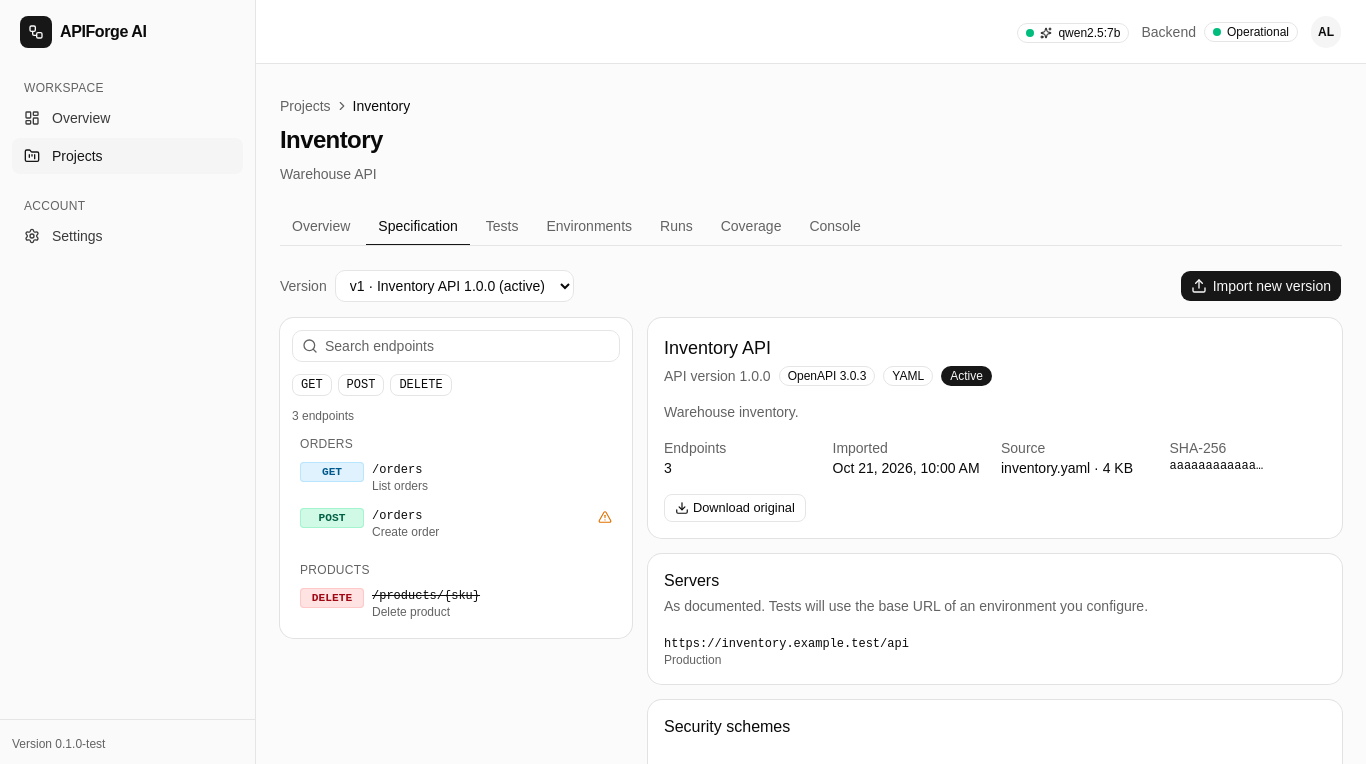
Test: Specification explorer › shows endpoint detail: parameters, schemas and documented responses
Click the text "List orders": x=400, y=486 x1=372 y1=479 x2=428 y2=493
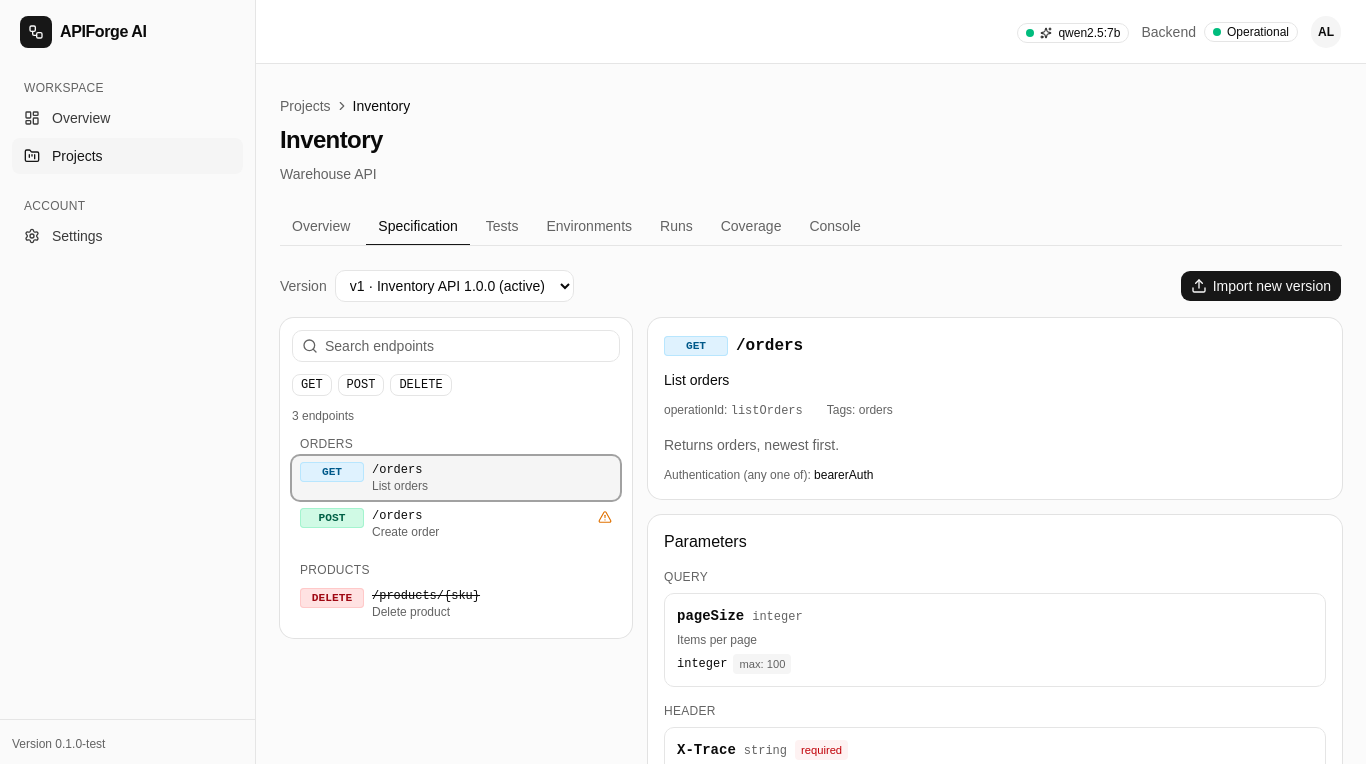
Expected: the heading "/orders" is shown, x1=736 y1=334 x2=803 y2=358
Expected: the text "Returns orders, newest first." is shown, x1=664 y1=437 x2=839 y2=453
Expected: the text "pageSize" is shown, x1=677 y1=606 x2=744 y2=626
